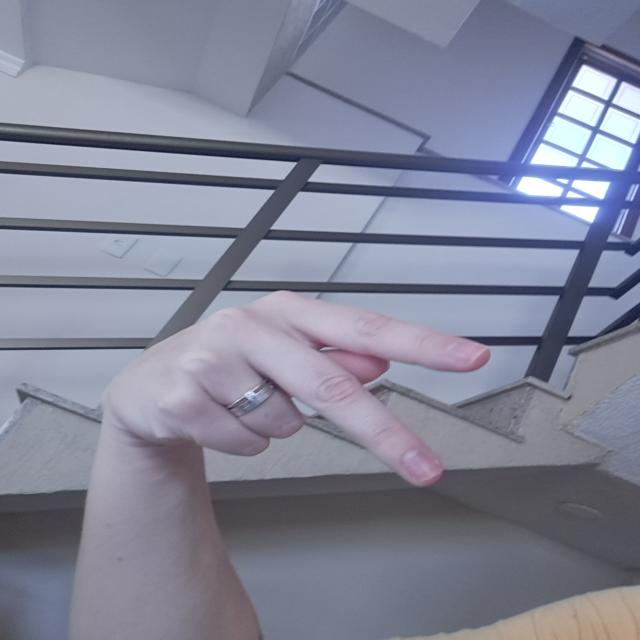P: (86, 290, 507, 496)
